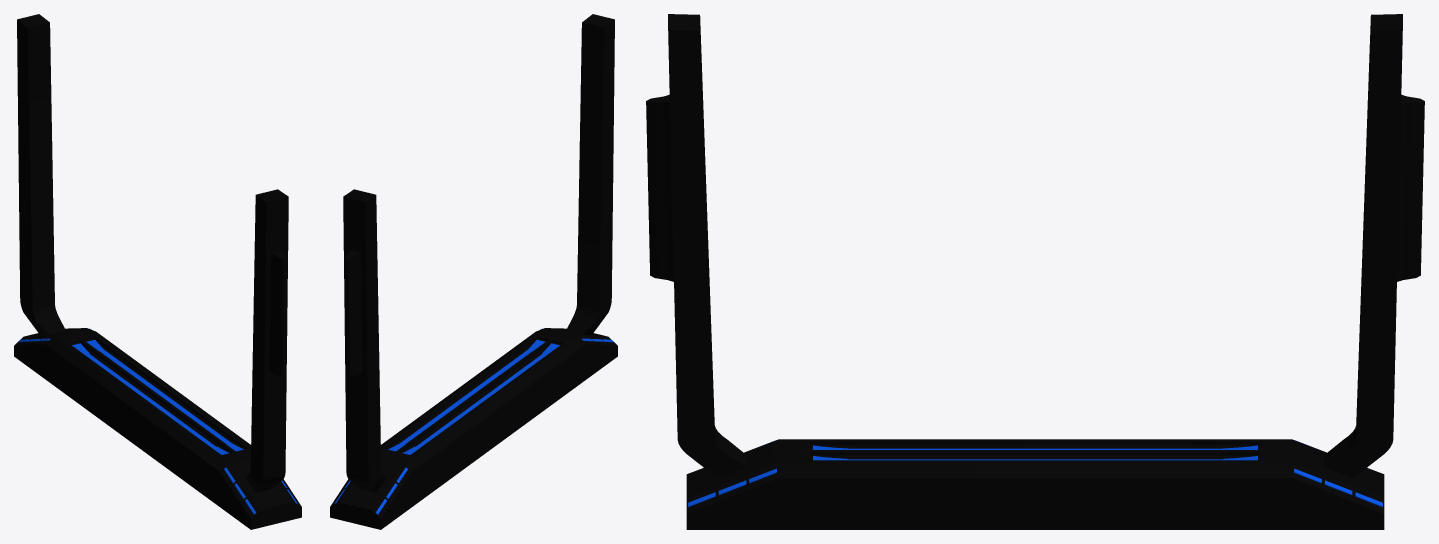
Rendered from holomedia.fbx.
The picture shows the model from 3 angles, left to right: view 1: azimuth 30°, elevation 25°; view 2: azimuth 150°, elevation 25°; view 3: azimuth 270°, elevation 25°; orthographic projection. The views are drawn at different scales.
Visible parts, largest first — view 1: Cube; view 2: Cube; view 3: Cube.
Part boxes in pixels (x1,y1,x2,y2): Cube: (14, 14, 301, 529); Cube: (330, 14, 617, 529); Cube: (646, 14, 1424, 529).
Bounding box in the file's own units: 67.41 × 418 × 606.
